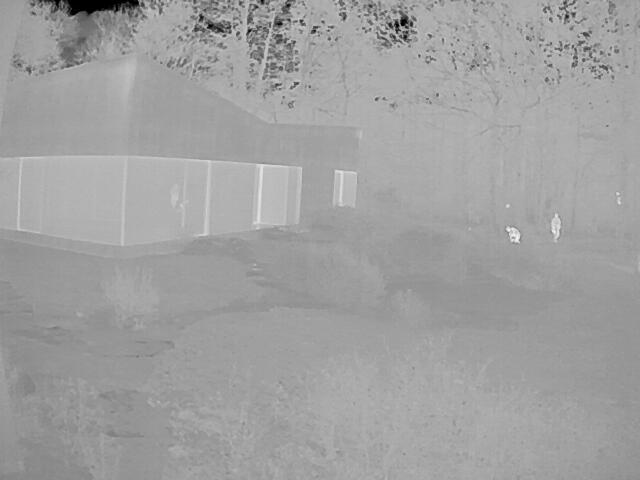person: (549, 213, 561, 243), (167, 183, 178, 208)
